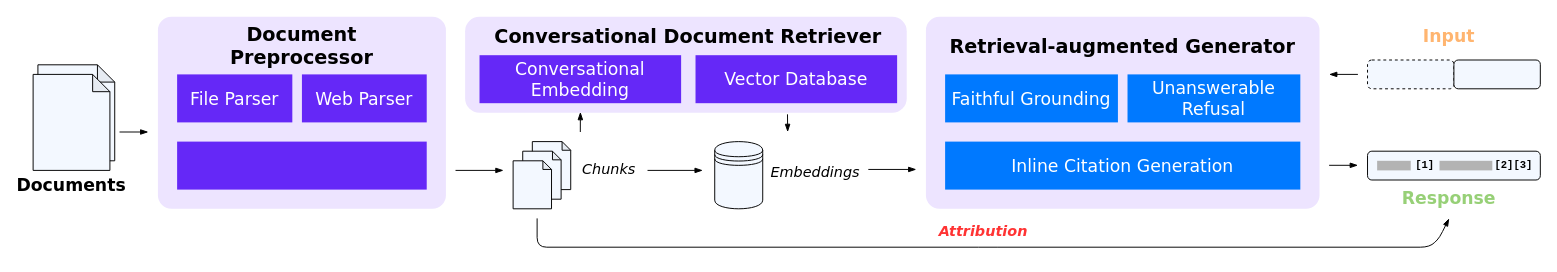
Image size: 1557x272. Some labels were removed from this diagram. Here are the shapes that lost their labels. From the top down, the centre of each, then its label:
At (1410,74): "History".
At (1496,74): "Query".
At (301,165): "Document Splitter".
